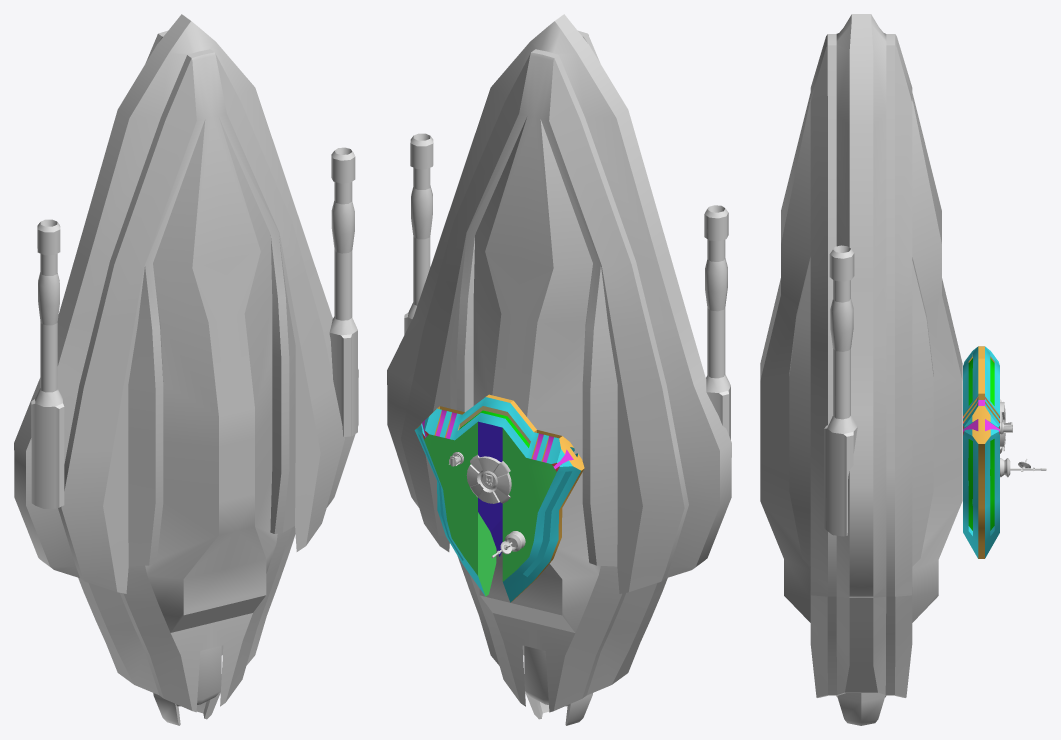
File: PreCursor01.fbx
3 views of the same model, side by side, from view 1: azimuth 30°, elevation 25°; view 2: azimuth 150°, elevation 25°; view 3: azimuth 270°, elevation 25° (orthographic).
Visible parts, largest first — view 1: Hull, AutoCannon, Engine; view 2: Hull, Main Part, AutoCannon, Engine, HatchLow; view 3: Hull, Main Part, AutoCannon, Engine.
Boxes of the visible parts, left/top/right/bottom form: Hull: left=14, top=14, right=358, bottom=712; AutoCannon: left=31, top=147, right=357, bottom=508; Engine: left=153, top=646, right=221, bottom=725; Hull: left=387, top=14, right=731, bottom=712; Main Part: left=414, top=394, right=584, bottom=602; AutoCannon: left=404, top=133, right=730, bottom=439; Engine: left=524, top=646, right=592, bottom=725; HatchLow: left=466, top=455, right=511, bottom=503; Hull: left=760, top=14, right=962, bottom=697; Main Part: left=963, top=346, right=999, bottom=558; AutoCannon: left=824, top=245, right=857, bottom=536; Engine: left=836, top=693, right=886, bottom=725.
Bounding box in the file's own units: 11.36 × 8.44 × 22.82.
